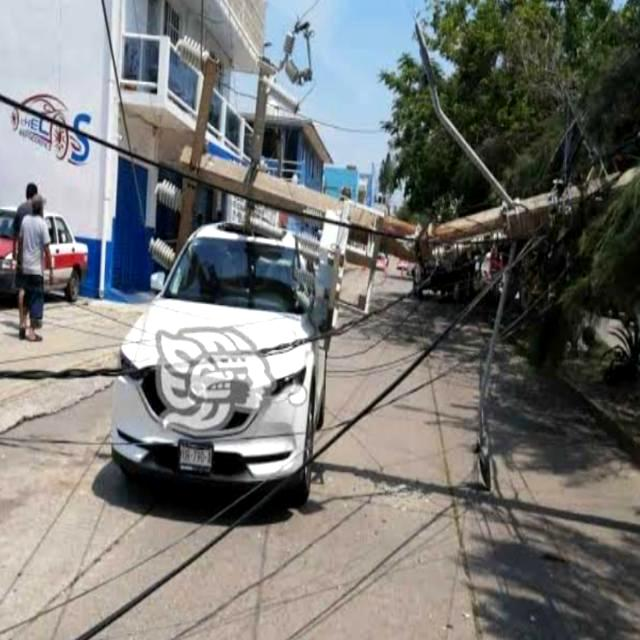Broken Pole: (147, 20, 639, 497)
